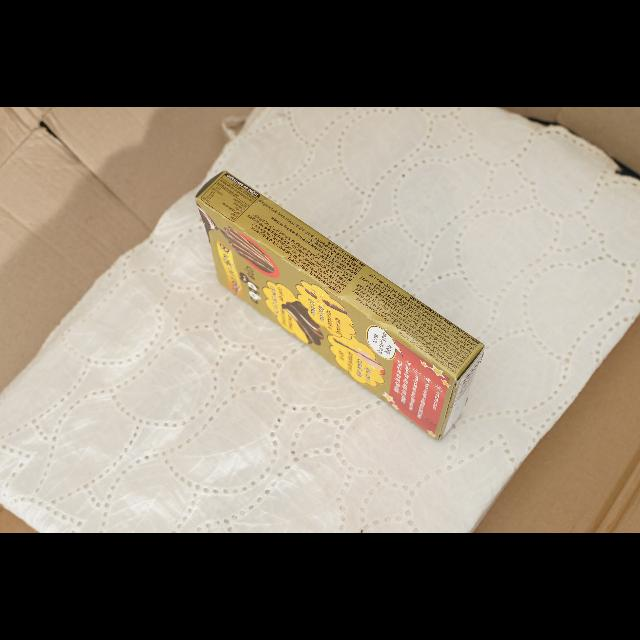banh_toppo_socola: (196, 171, 484, 439)
